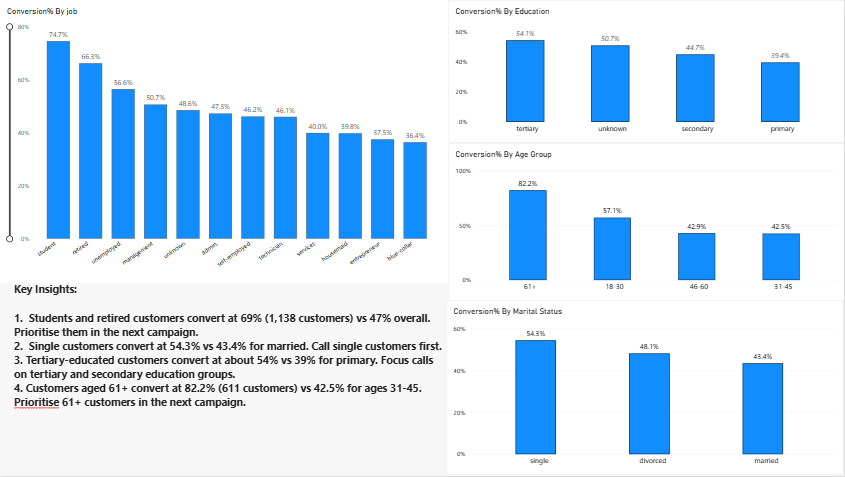

Layout of this report page (visuals, bound fields, positions):
{"tool":"powerbi","page":{"name":"Who converts","canvas":[1920,1080],"ordinal":1},"visuals":[{"type":"clusteredColumnChart","title":"Conversion% By job","fields":{"Category":["Bank.job"],"Y":["Bank.Conversion%"]},"box":[0,0,1016,642],"z":0},{"type":"clusteredColumnChart","title":"Conversion% By Age Group","fields":{"Category":["Bank.age_group"],"Y":["Bank.Conversion%"]},"box":[1017.4,324,902.9,358.6],"z":1},{"type":"clusteredColumnChart","title":"Conversion% By Education","fields":{"Category":["Bank.education"],"Y":["Bank.Conversion%"]},"box":[1017.4,0,902.9,324],"z":2},{"type":"clusteredColumnChart","title":"Conversion% By Marital Status","fields":{"Category":["Bank.marital"],"Y":["Bank.Conversion%"]},"box":[1017.4,682.6,902.9,397.4],"z":3},{"type":"textbox","box":[32,642,984,404],"z":4}]}

Visuals, with their boxes in screenshot pixels (x1, y1, x2, y2), scaled from the page's 1920x1080 canvas onto the 845x477 screenshot:
"Conversion% By job" clusteredColumnChart: [0, 0, 447, 284]
"Conversion% By Age Group" clusteredColumnChart: [448, 143, 844, 301]
"Conversion% By Education" clusteredColumnChart: [448, 0, 844, 143]
"Conversion% By Marital Status" clusteredColumnChart: [448, 301, 844, 476]
textbox: [14, 284, 447, 462]
